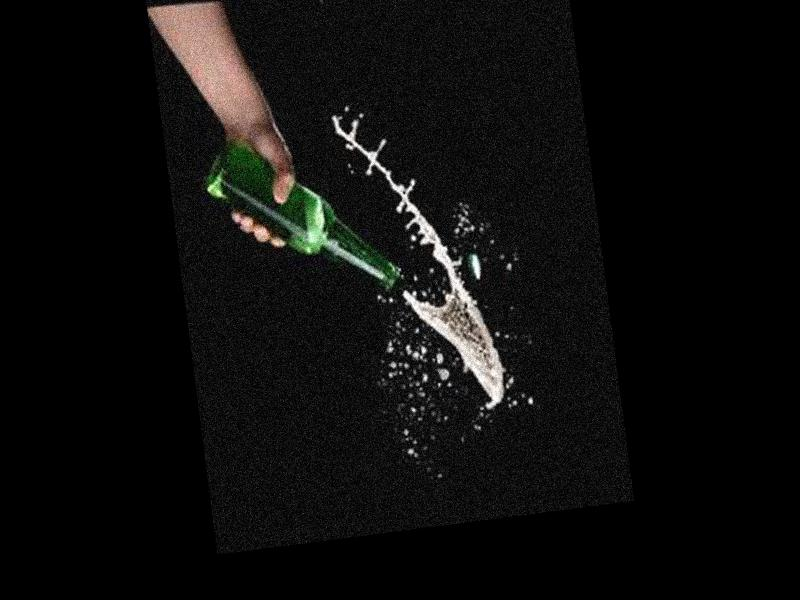Beer: (197, 121, 400, 310)
